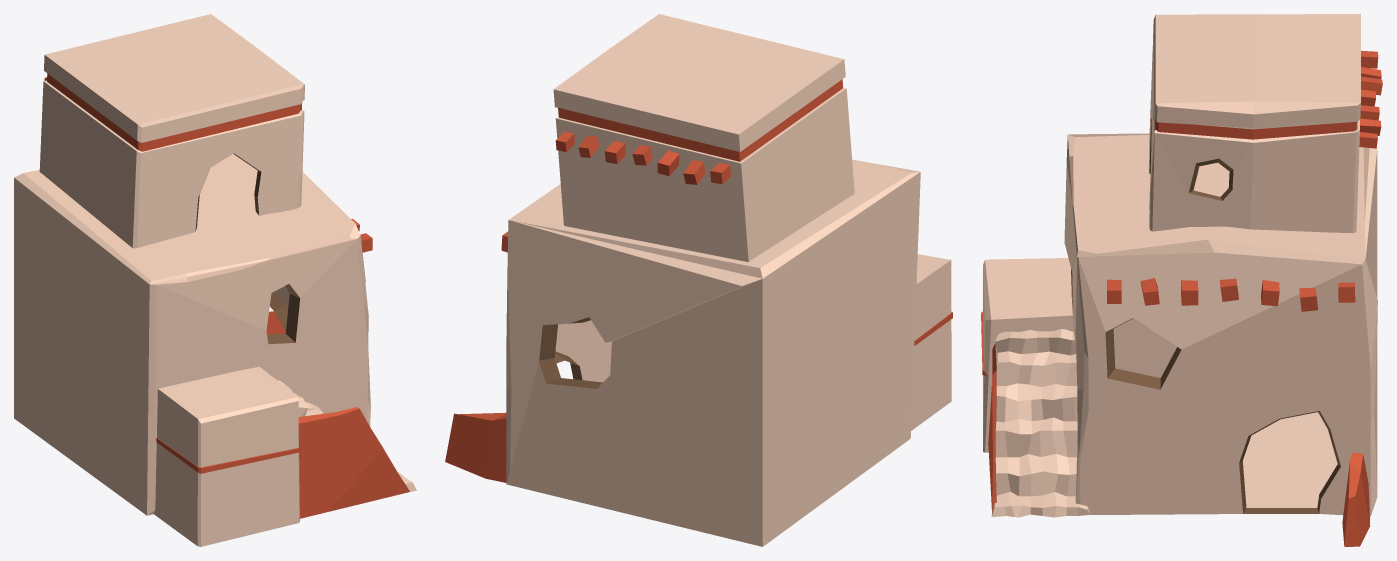
The model's file is house.fbx.
The picture shows the model from 3 angles, left to right: view 1: azimuth 30°, elevation 25°; view 2: azimuth 150°, elevation 25°; view 3: azimuth 270°, elevation 25°; orthographic projection. The views are drawn at different scales.
Visible parts, largest first — view 1: Cube; view 2: Cube; view 3: Cube.
Part boxes in pixels (bbox=[...]): Cube: bbox=[14, 14, 416, 546]; Cube: bbox=[445, 14, 952, 546]; Cube: bbox=[981, 14, 1382, 546].
Size of the model in its own units: 255 by 303 by 277.
